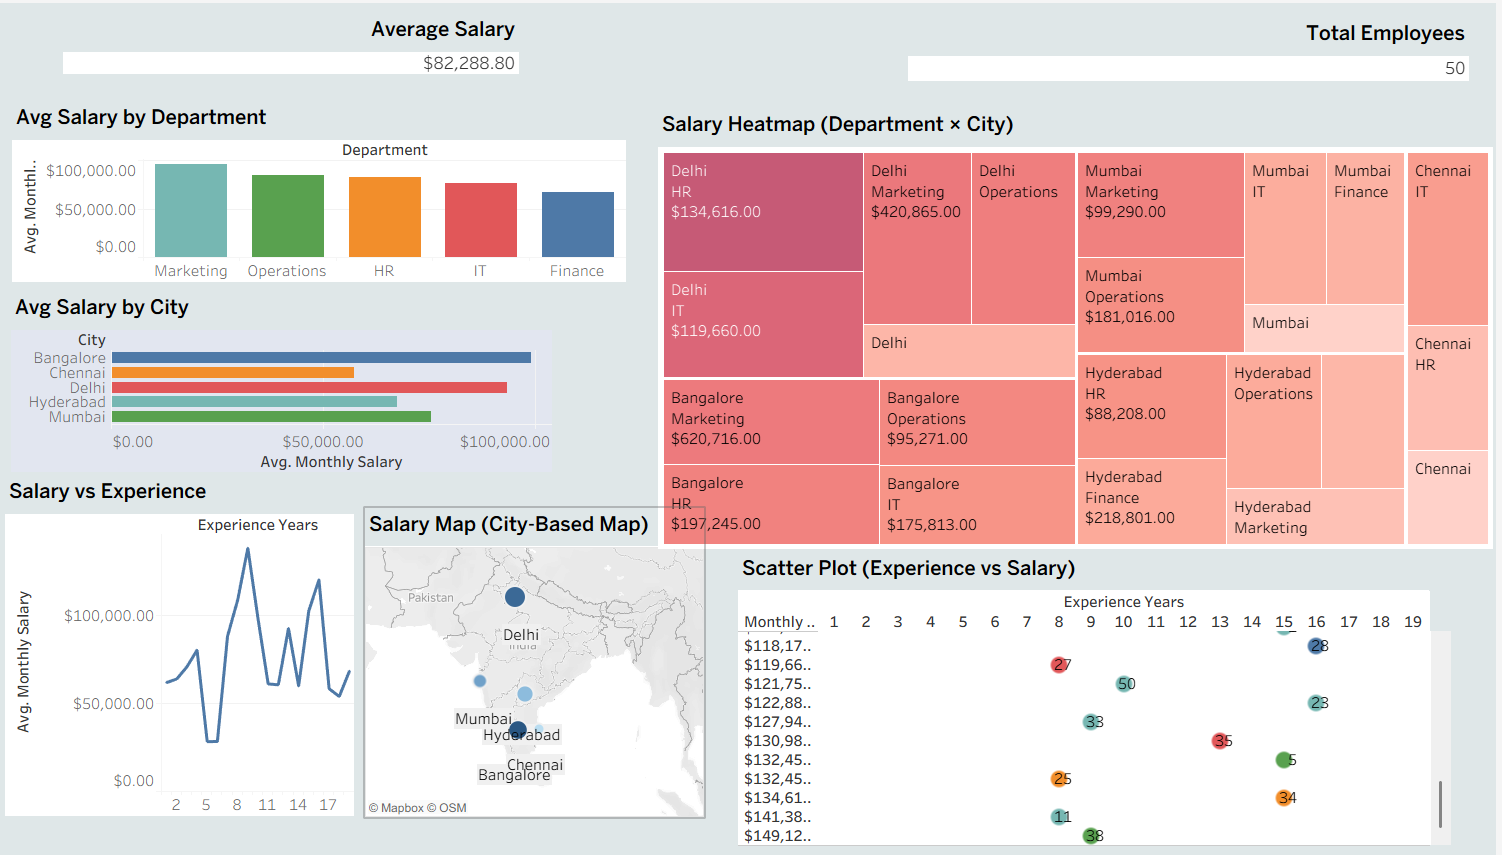

What the dashboard file says about the page in this screenshot:
{"tool":"tableau","page":{"name":"Dashboard 1","canvas":[1500,1000],"ordinal":0},"visuals":[{"type":"worksheet","title":"Sheet 8","mark":"Automatic","box":[67,10,456,75]},{"type":"worksheet","title":"Sheet 8 (2)","mark":"Automatic","box":[912,14,561,82]},{"type":"worksheet","title":"Sheet 2","mark":"Automatic","rows":["Monthly_Salary"],"cols":["Department"],"box":[16,98,614,181]},{"type":"worksheet","title":"Sheet 6","mark":"Automatic","box":[662,105,835,441]},{"type":"worksheet","title":"Sheet 3","mark":"Automatic","rows":["City"],"cols":["Monthly_Salary"],"box":[15,288,541,181]},{"type":"worksheet","title":"Sheet 4","mark":"Line","rows":["Monthly_Salary"],"cols":["Experience_Years"],"box":[9,472,349,341]},{"type":"worksheet","title":"Sheet 5","mark":"Automatic","box":[369,505,339,309]},{"type":"worksheet","title":"Sheet 7","mark":"Circle","rows":["Monthly_Salary"],"cols":["Experience_Years"],"box":[742,549,713,294]}]}

Visuals, with their boxes on the page's 1500x1000 design canvas (x1, y1, x2, y2). These are canvas units, not pixel positions in the 1502x855 screenshot, which may show the page scaled, cropped or inside an application window:
"Sheet 8" worksheet: left=67, top=10, right=523, bottom=85
"Sheet 8 (2)" worksheet: left=912, top=14, right=1473, bottom=96
"Sheet 2" worksheet: left=16, top=98, right=630, bottom=279
"Sheet 6" worksheet: left=662, top=105, right=1497, bottom=546
"Sheet 3" worksheet: left=15, top=288, right=556, bottom=469
"Sheet 4" worksheet (Line marks): left=9, top=472, right=358, bottom=813
"Sheet 5" worksheet: left=369, top=505, right=708, bottom=814
"Sheet 7" worksheet (Circle marks): left=742, top=549, right=1455, bottom=843
